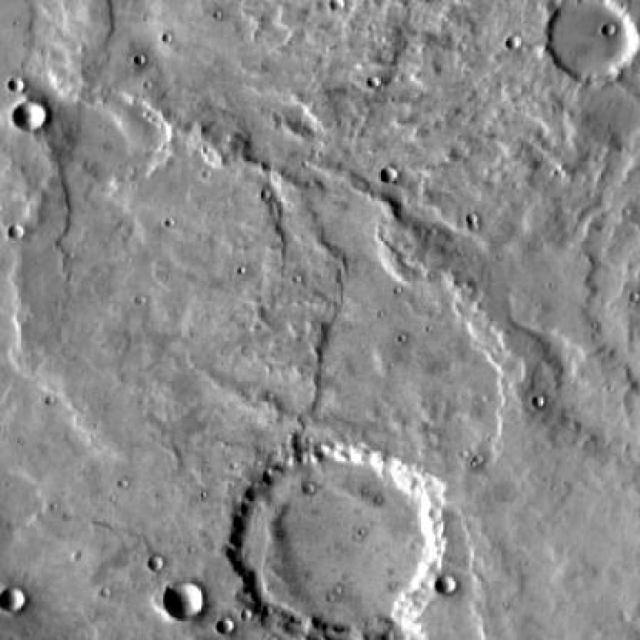crater: (235, 451, 454, 640), (548, 0, 634, 88), (0, 478, 48, 534), (164, 582, 204, 618), (12, 100, 45, 132), (0, 586, 23, 608), (441, 583, 459, 600), (380, 166, 398, 182), (216, 621, 235, 636), (9, 74, 25, 91), (506, 35, 522, 51)
